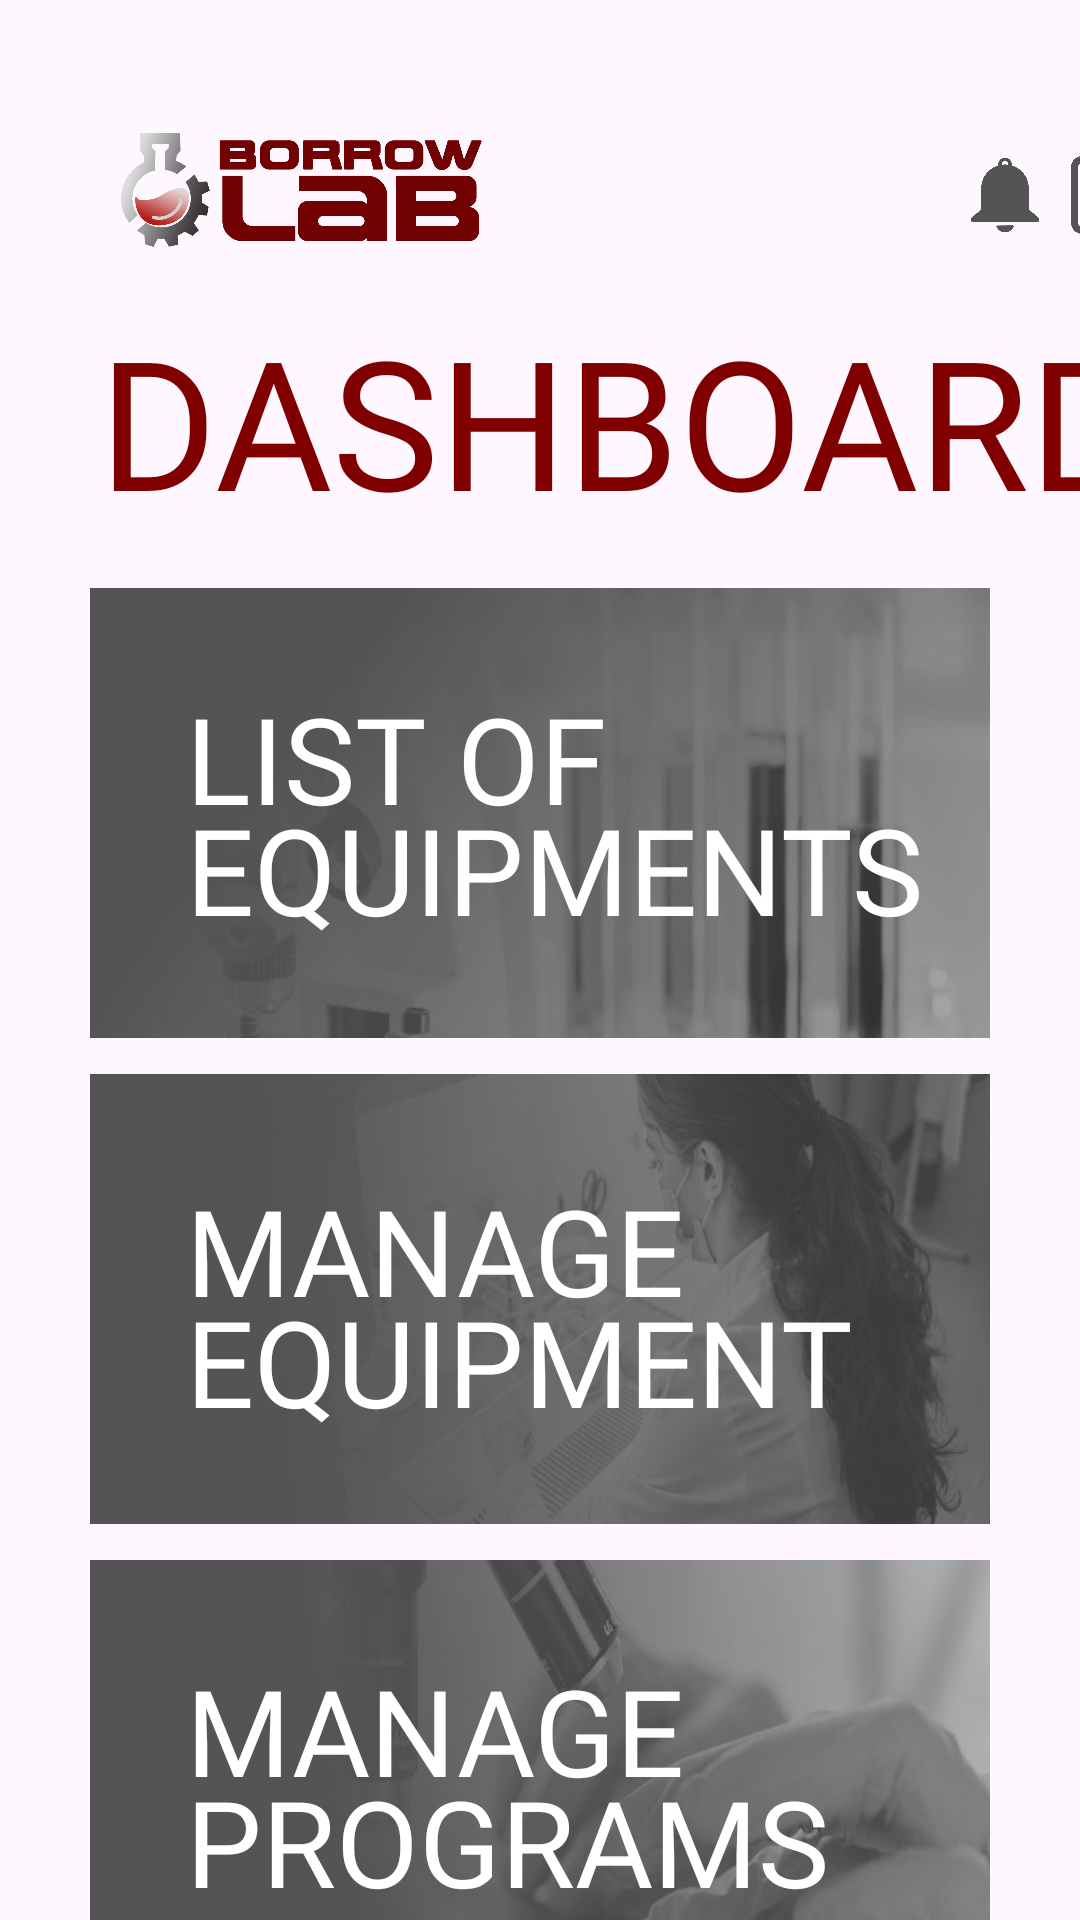

Point at icon controls on the screen. Image size 1080w x 1920h, points as (x,y).
Notification: (1005,195)
